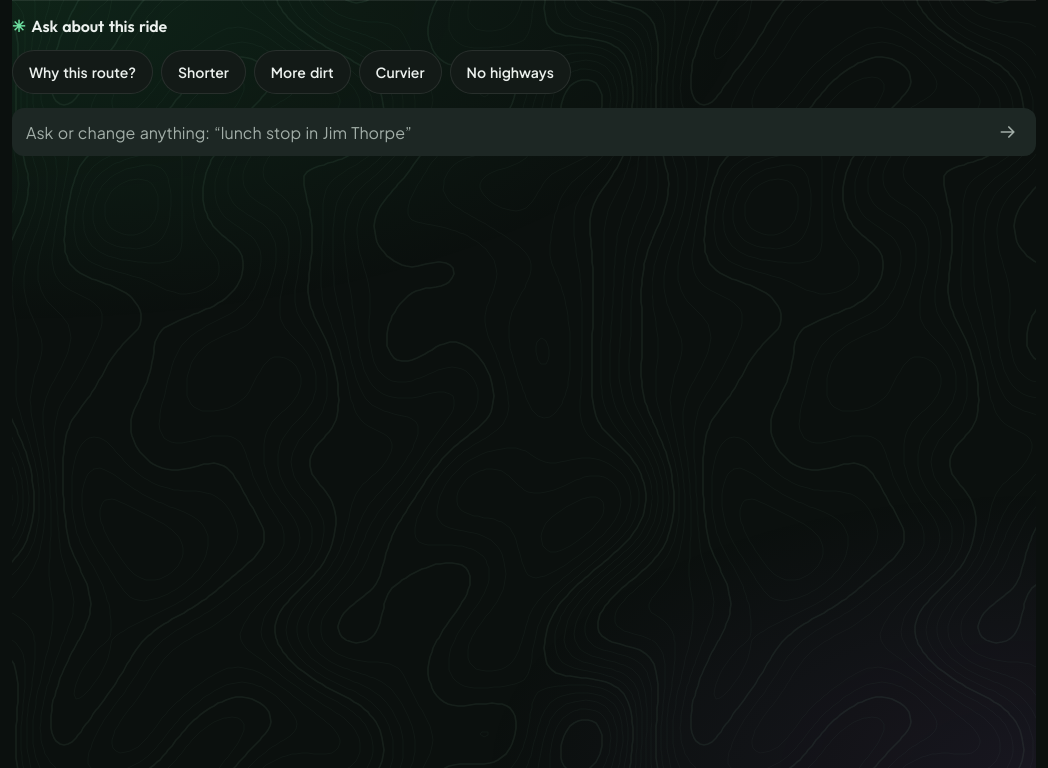
Test: ask about this ride › keeps the field and its send button on one row
Expected: the button named "Send" is disabled, left=984, top=108, right=1032, bottom=156
Type "more dirt" into the field with test id "advisor-ride-prompt" at (524, 132), box left=12, top=108, right=1036, bottom=156
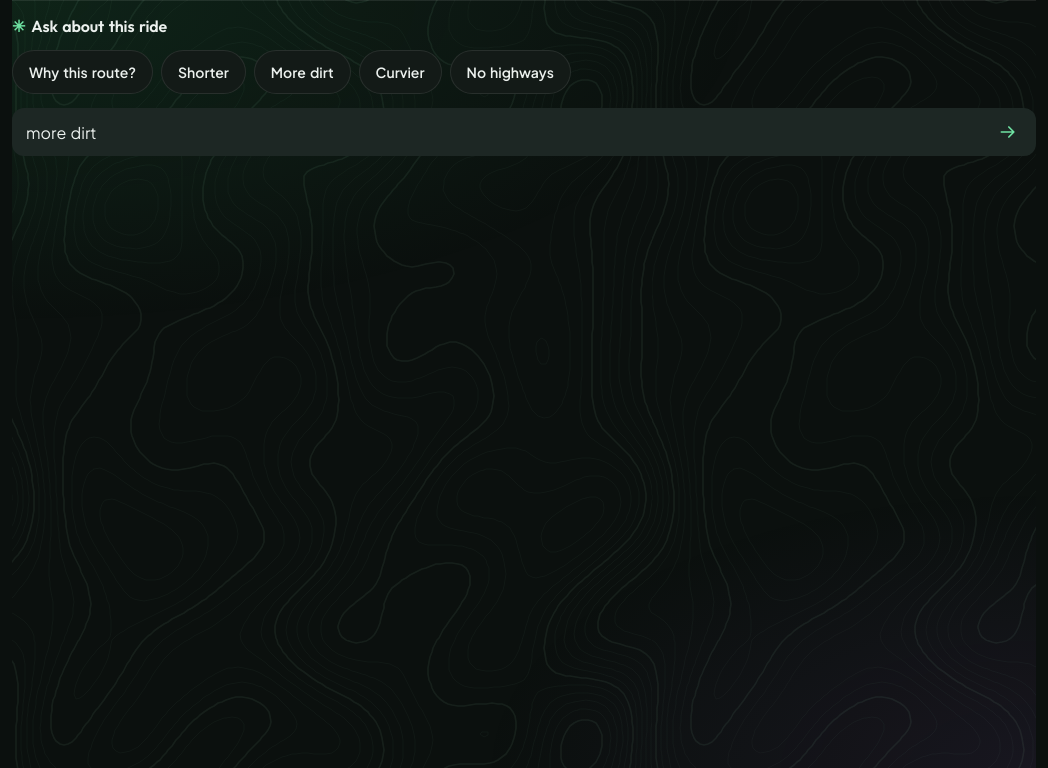
Expected: the button named "Send" is enabled, left=984, top=108, right=1032, bottom=156
